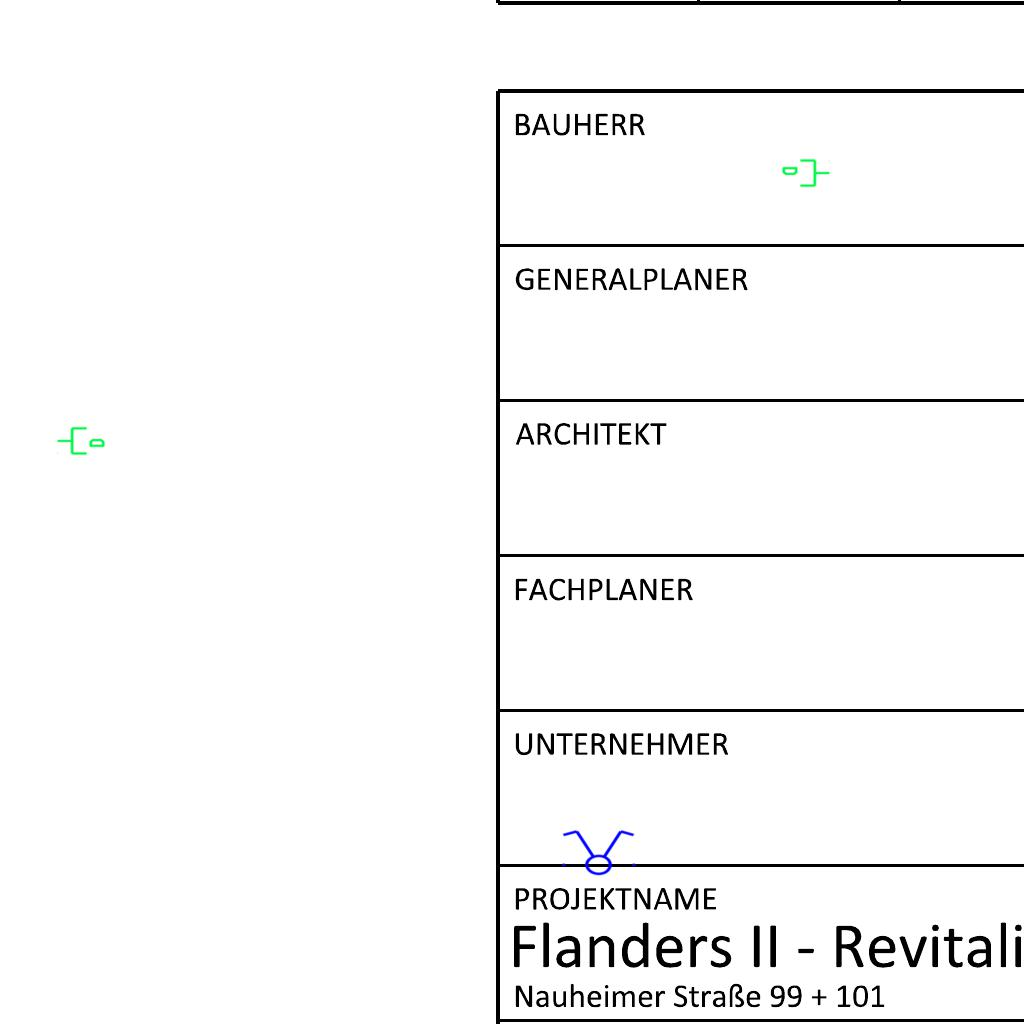Datenanschluss_einfach: (781, 157, 831, 191), (56, 423, 106, 457)
Serienschalter: (556, 828, 640, 876)
